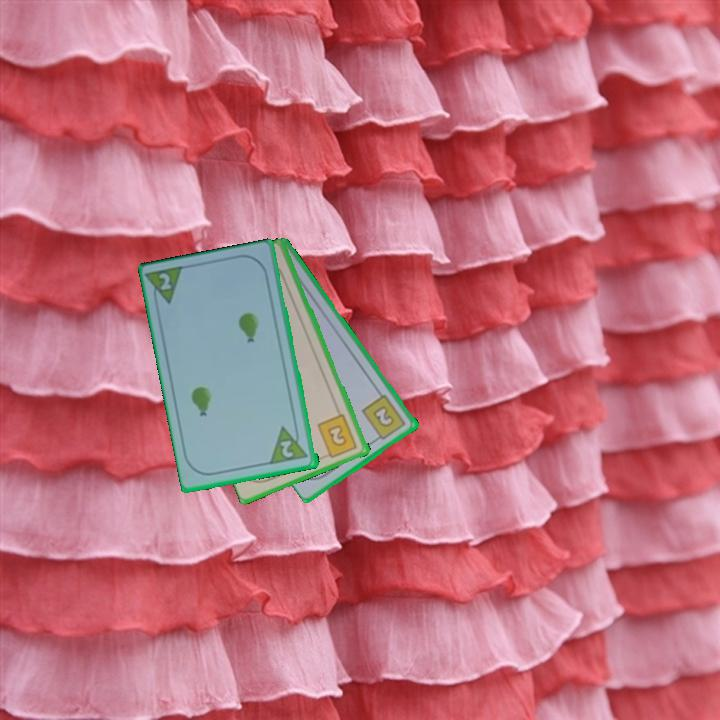2b: (359, 391, 409, 444), (314, 411, 360, 461)
2p: (144, 263, 188, 311), (268, 421, 311, 467)
